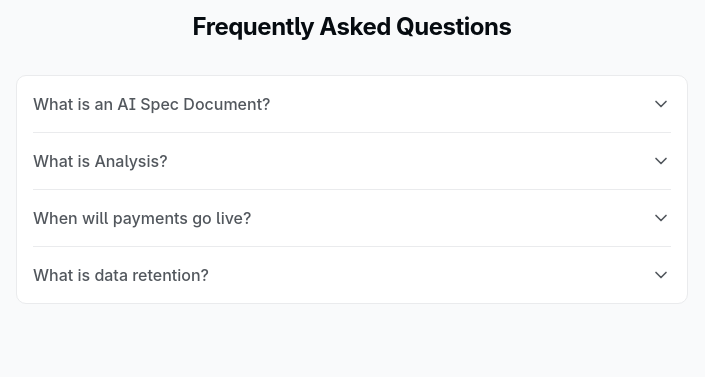
Test: PricingFaq › collapses expanded item on second click
Click the button "What is an AI Spec Document?".
click(152, 104)  # box [33,76,671,132]
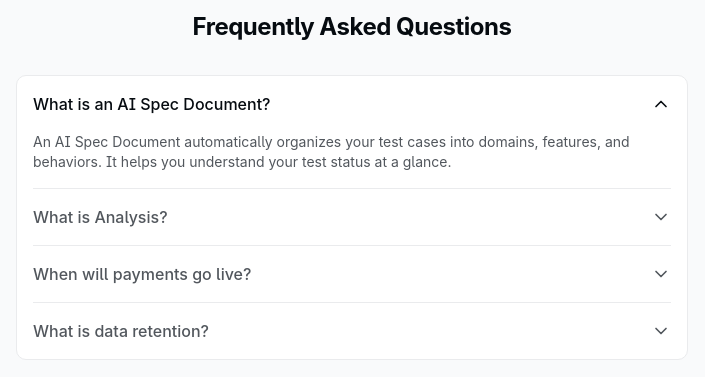
Expected: the button "What is an AI Spec Document?" is expanded
Click the button "What is an AI Spec Document?".
click(152, 104)  # box [33,76,671,132]
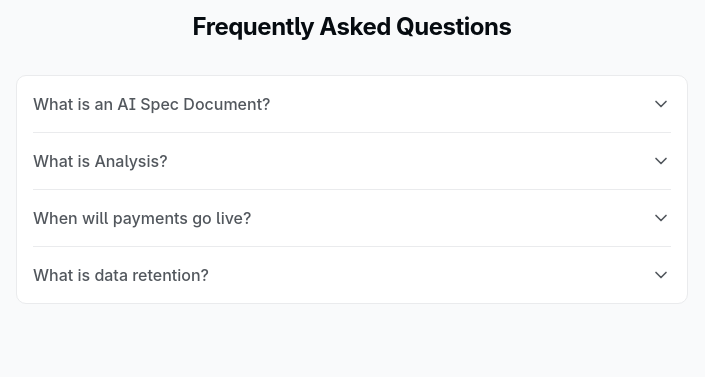
Expected: the button "What is an AI Spec Document?" is collapsed, [33,76,671,132]
